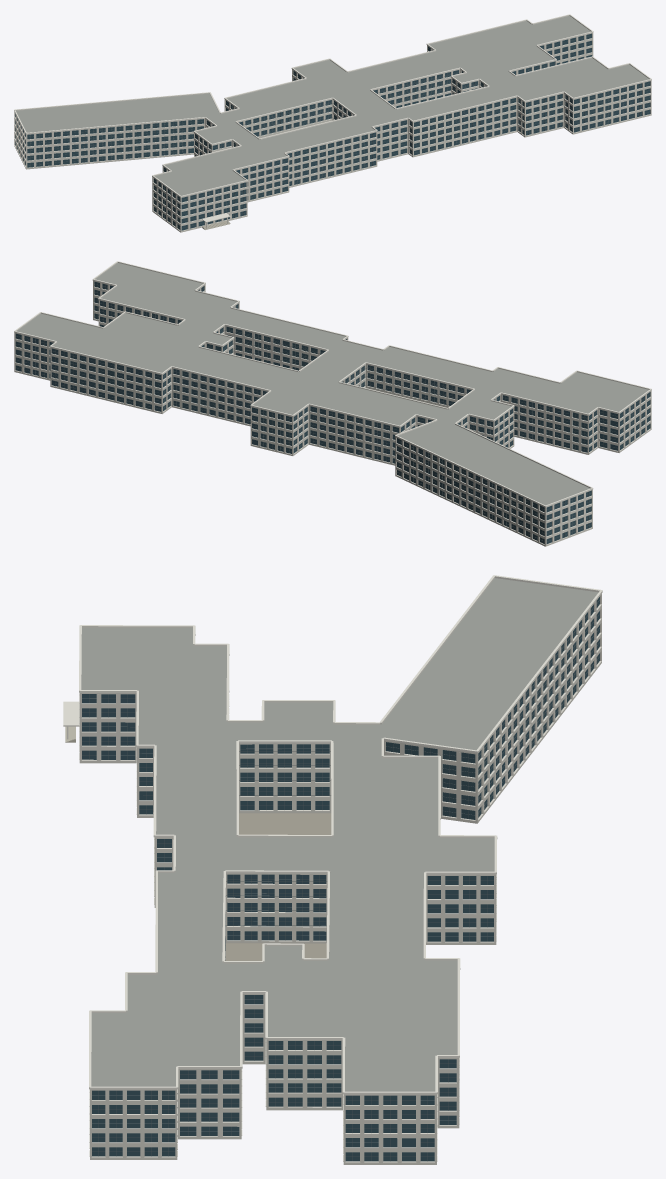
File: teaching1.glb
3 views of the same model, one above another, from view 1: azimuth 30°, elevation 25°; view 2: azimuth 150°, elevation 25°; view 3: azimuth 270°, elevation 25° (orthographic). The views are drawn at different scales.
Visible parts, largest first — view 1: roof, wall, glass, trim, metal, corridor_rails; view 2: roof, wall, glass, trim, metal, corridor_rails; view 3: roof, wall, glass, trim, metal, paving, corridor_rails.
Part boxes in pixels (box(x1,y1,x2,y2)): roof: box(16, 16, 648, 195); wall: box(14, 33, 651, 232); glass: box(15, 33, 650, 230); trim: box(14, 14, 651, 231); metal: box(15, 36, 649, 228); corridor_rails: box(242, 73, 482, 136); roof: box(17, 263, 648, 505); wall: box(14, 280, 651, 546); glass: box(15, 281, 650, 543); trim: box(14, 261, 651, 544); metal: box(16, 282, 649, 542); corridor_rails: box(205, 330, 466, 405); roof: box(81, 578, 598, 1091); wall: box(79, 594, 601, 1164); glass: box(82, 597, 599, 1161); trim: box(67, 575, 602, 1162); metal: box(82, 599, 599, 1161); paving: box(225, 813, 331, 960); corridor_rails: box(225, 751, 330, 960).
Bounding box in the file's own units: 250 × 16.34 × 110.
